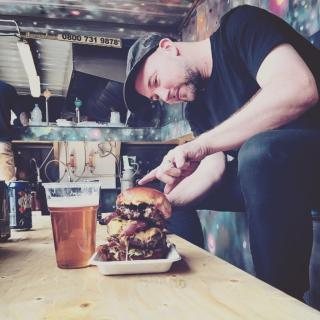Hamburger: (95, 188, 173, 262)
